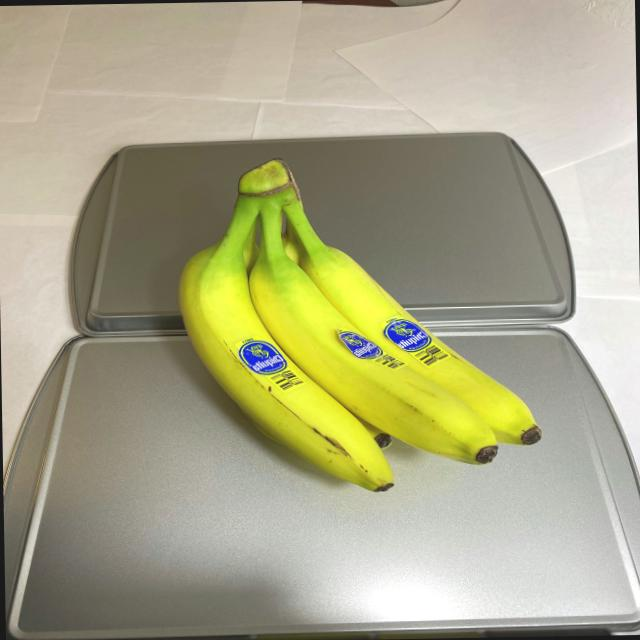banana: (170, 153, 546, 500)
